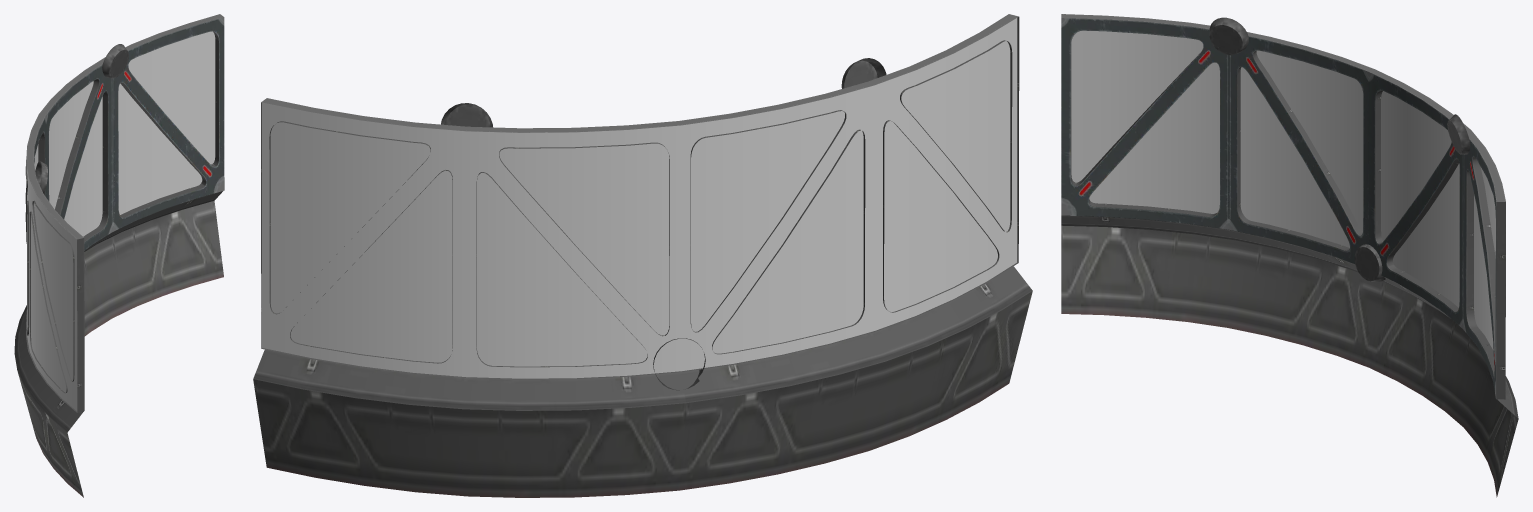
Rendered from wall-big-window-corner.glb.
3 renders of one model, left to right at view 1: azimuth 30°, elevation 25°; view 2: azimuth 150°, elevation 25°; view 3: azimuth 270°, elevation 25°, orthographic. The views are drawn at different scales.
Visible parts, largest first — view 1: WallWindow_Corner_Round_Inner; view 2: WallWindow_Corner_Round_Inner; view 3: WallWindow_Corner_Round_Inner.
Boxes of the visible parts, x1,y1,x2,y2 form: WallWindow_Corner_Round_Inner: [14, 14, 224, 497]; WallWindow_Corner_Round_Inner: [253, 14, 1032, 497]; WallWindow_Corner_Round_Inner: [1061, 14, 1518, 497].
Bounding box in the file's own units: 4.2 × 3.17 × 4.2.
Materials: 4 (3 with a texture image).
